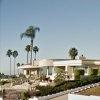Palm tree: (15, 13, 39, 63)
